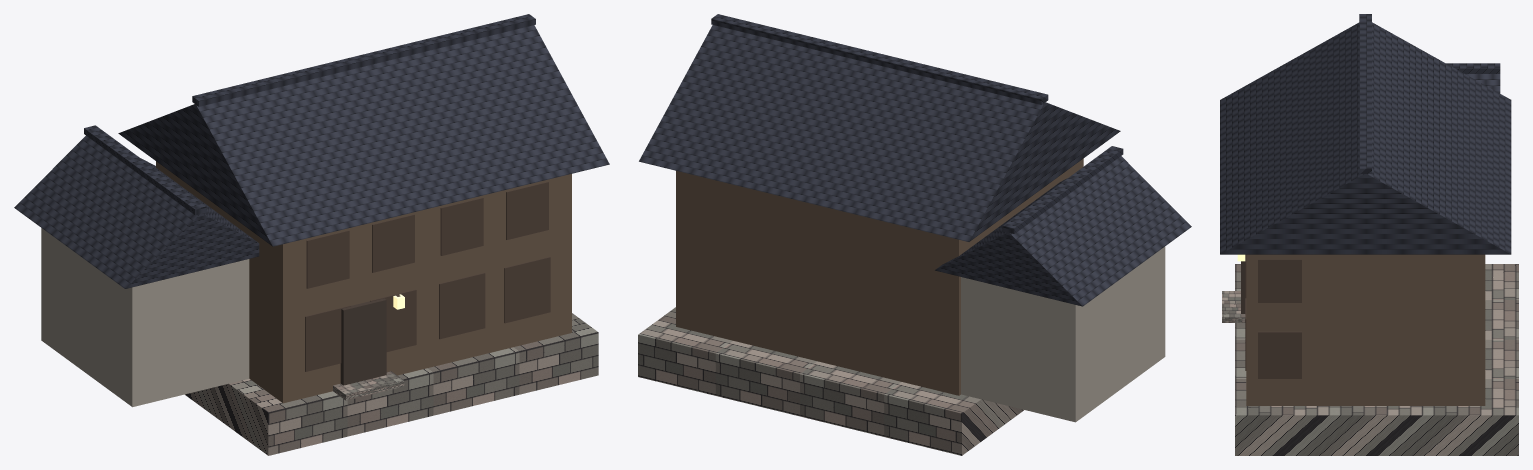
Rendered from cl-house-a.glb.
3 renders of one model, left to right at view 1: azimuth 30°, elevation 25°; view 2: azimuth 150°, elevation 25°; view 3: azimuth 270°, elevation 25°, orthographic. The views are drawn at different scales.
Parts seen in each view (by area): view 1: cl_house_a; view 2: cl_house_a; view 3: cl_house_a.
Boxes of the visible parts, x1,y1,x2,y2 form: cl_house_a: (14, 14, 609, 455); cl_house_a: (638, 14, 1191, 455); cl_house_a: (1220, 14, 1518, 455).
Size of the model in its own units: 13 by 8.54 by 8.
10 materials, 2 textured.
